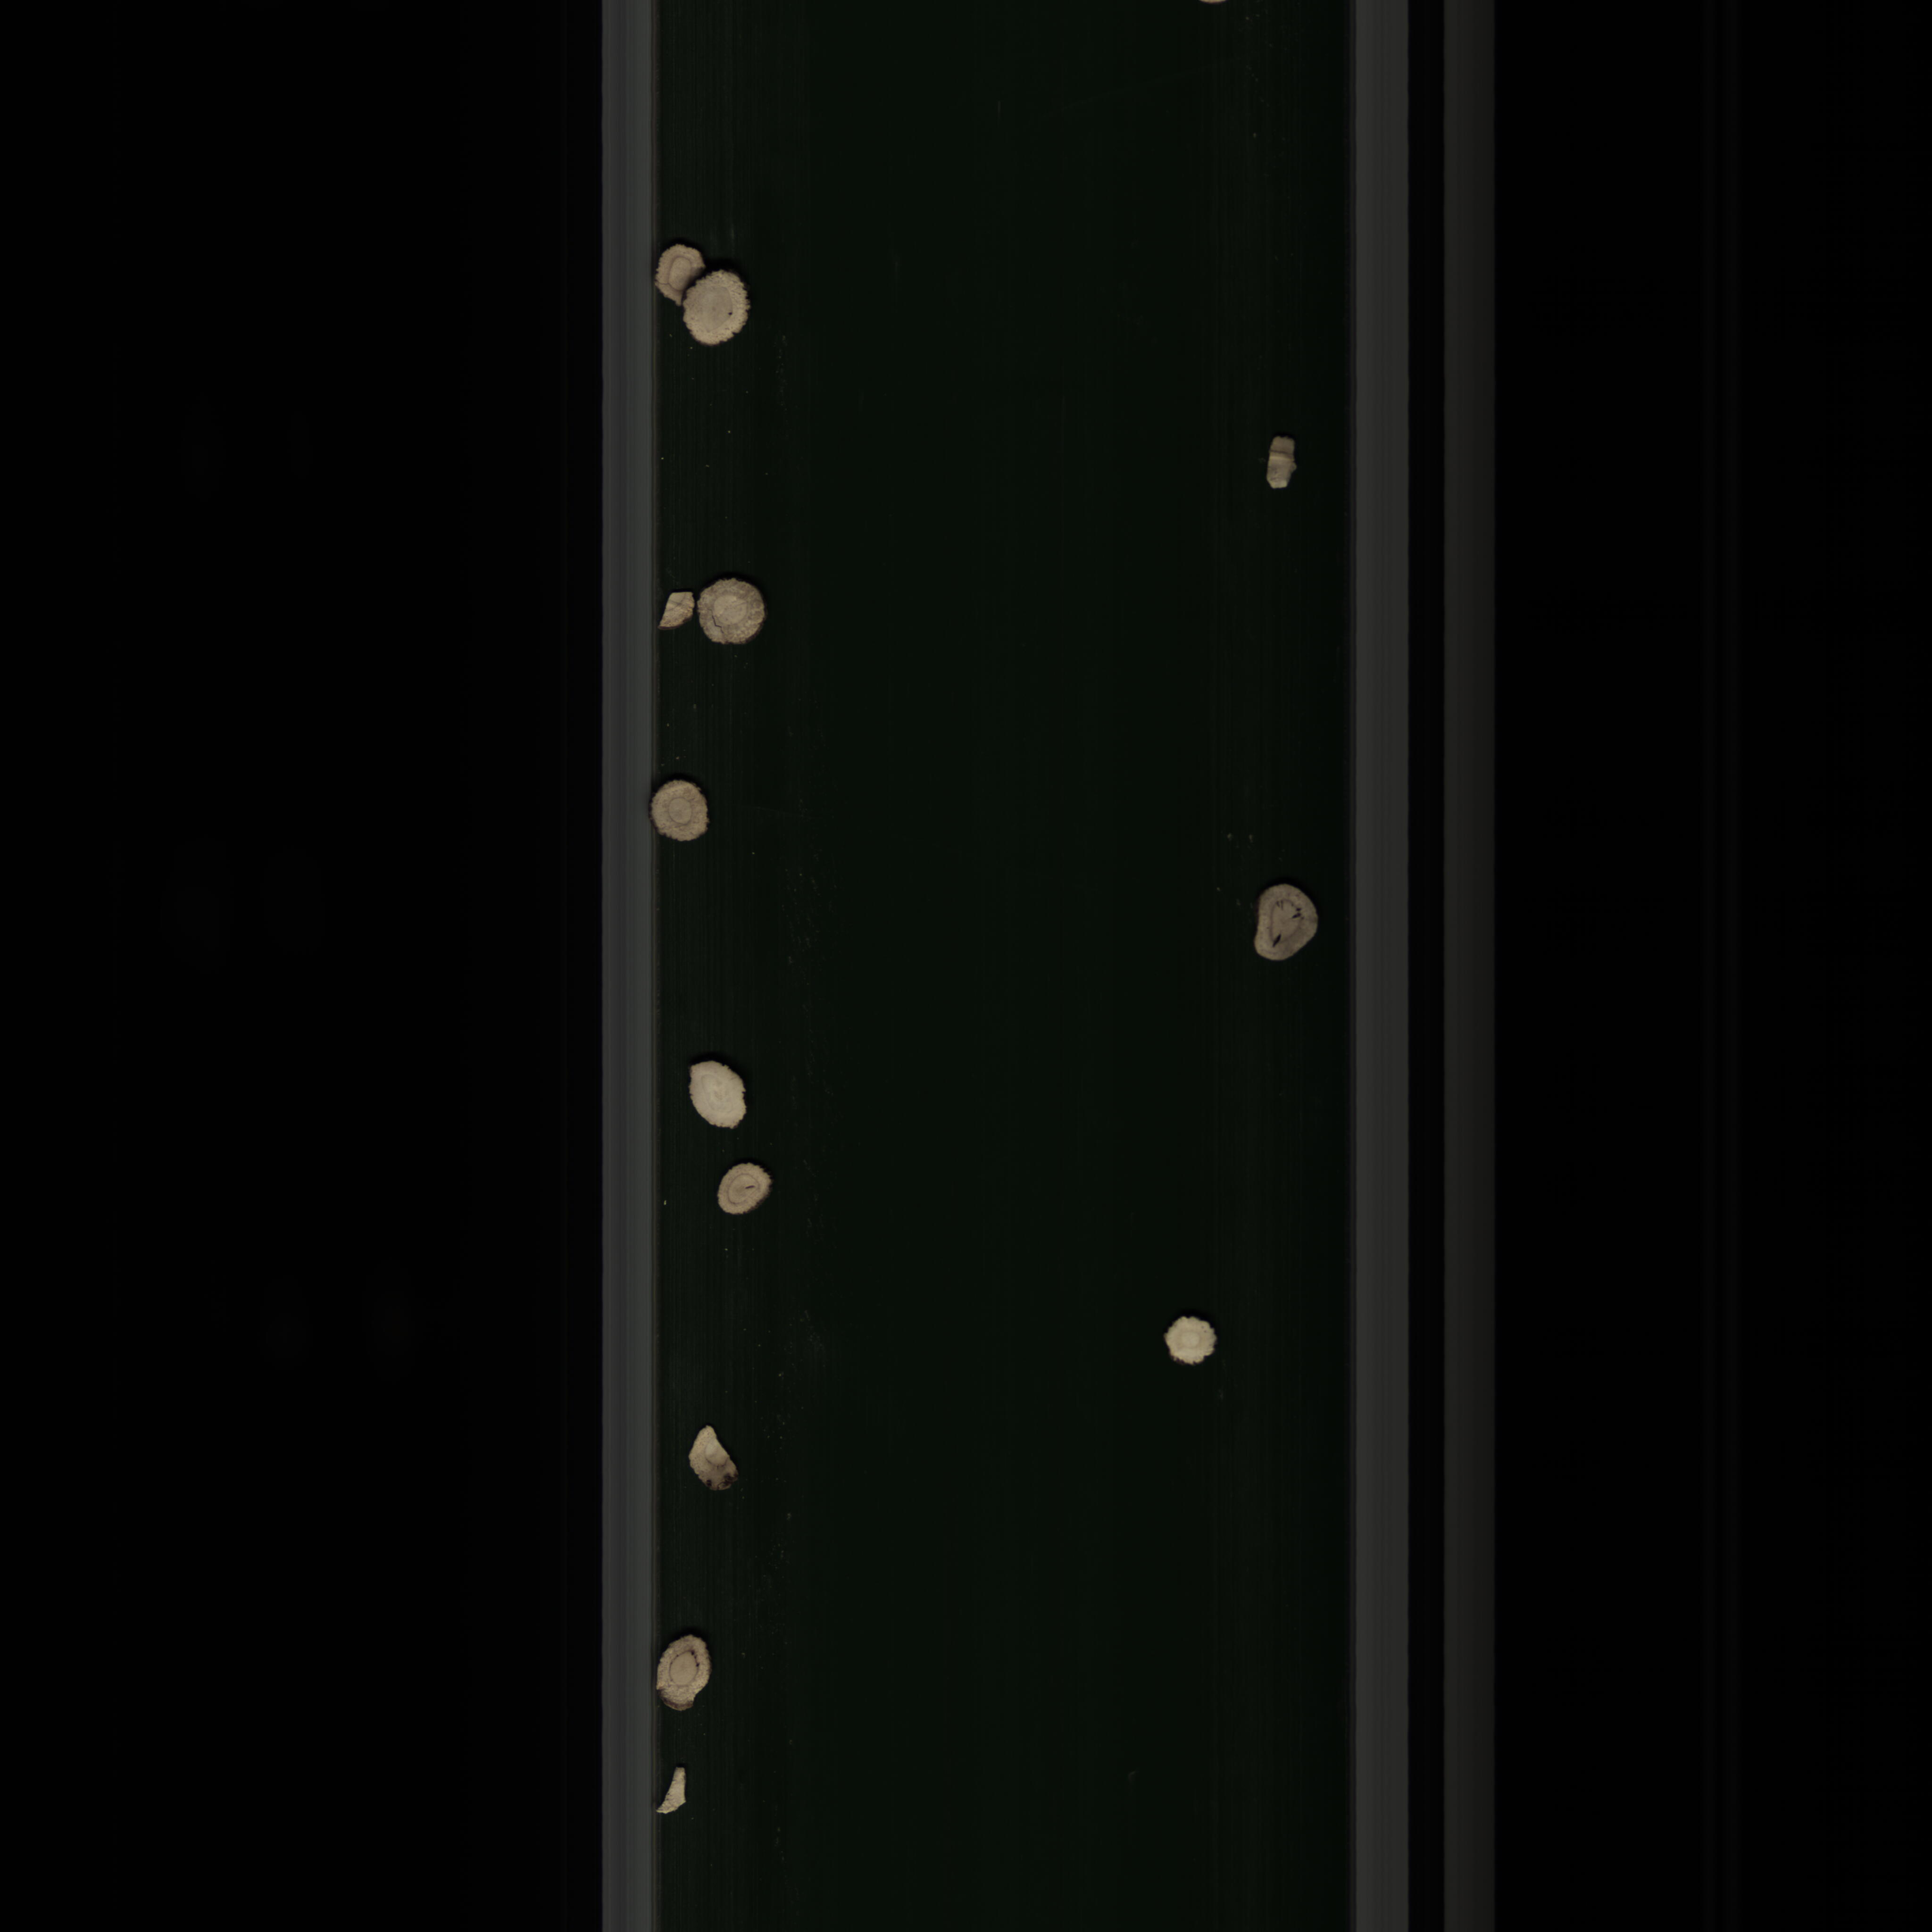debris: (679, 1419, 750, 1502), (1263, 425, 1306, 511), (655, 1760, 701, 1831), (651, 586, 697, 632)
hole: (1244, 879, 1325, 971), (651, 1622, 720, 1720)
